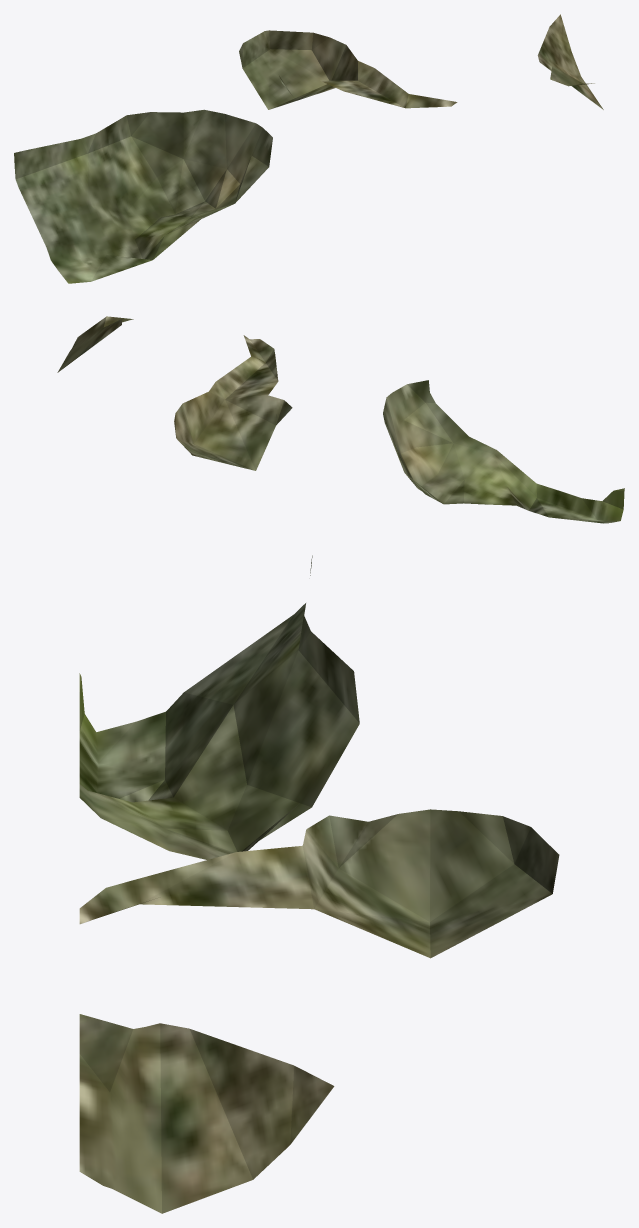
3 views of the same model, one above another, from view 1: azimuth 30°, elevation 25°; view 2: azimuth 150°, elevation 25°; view 3: azimuth 270°, elevation 25° (orthographic). The views are drawn at different scales.
Size of the model in its own units: 2.95 by 0.4847 by 1.12.
Materials: 1 (1 with a texture image).
